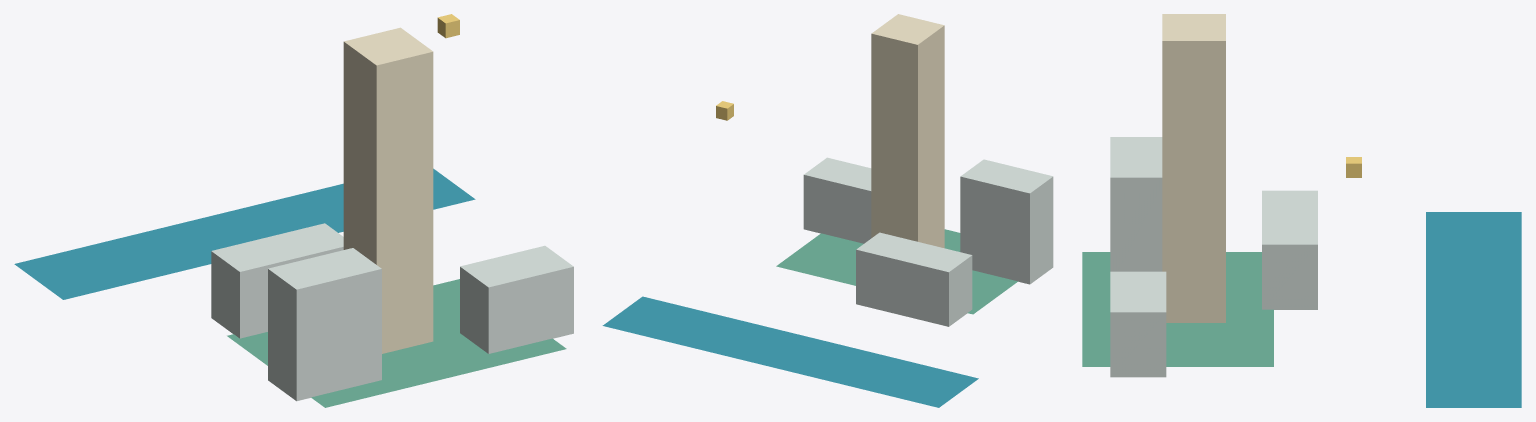
The model's file is model-context.glb.
3 renders of one model, left to right at view 1: azimuth 30°, elevation 25°; view 2: azimuth 150°, elevation 25°; view 3: azimuth 270°, elevation 25°, orthographic. The views are drawn at different scales.
Visible parts, largest first — view 1: Tower B 39 floors, Building A 15 floors, Sea direction plane, Building C 9 floors, Green courtyard, Building D 9 floors; view 2: Tower B 39 floors, Sea direction plane, Building A 15 floors, Building D 9 floors, Building C 9 floors, Green courtyard; view 3: Tower B 39 floors, Sea direction plane, Green courtyard, Building A 15 floors, Building D 9 floors, Building C 9 floors.
Part boxes in pixels (x1,y1,x2,y2): Tower B 39 floors: (343, 27, 433, 353); Building A 15 floors: (268, 248, 381, 401); Sea direction plane: (14, 168, 475, 299); Building C 9 floors: (460, 245, 573, 353); Green courtyard: (227, 279, 566, 407); Building D 9 floors: (211, 223, 343, 338); Tower B 39 floors: (871, 14, 944, 248); Sea direction plane: (602, 296, 978, 407); Building A 15 floors: (960, 159, 1053, 284); Building D 9 floors: (856, 232, 972, 326); Building C 9 floors: (803, 157, 871, 243); Green courtyard: (776, 229, 1017, 314); Tower B 39 floors: (1162, 14, 1225, 322); Sea direction plane: (1426, 212, 1521, 407); Green courtyard: (1082, 252, 1273, 366); Building A 15 floors: (1110, 137, 1162, 271); Building D 9 floors: (1262, 190, 1317, 309); Building C 9 floors: (1110, 271, 1166, 377).
Bounding box in the file's own units: 58 × 39.02 × 55.
